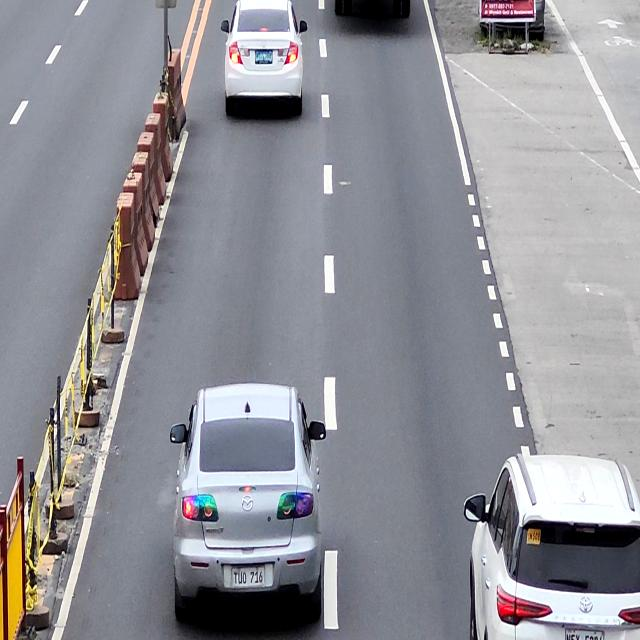Car: (170, 383, 324, 623), (463, 450, 640, 640), (220, 0, 310, 118)
License-Plate: (232, 567, 266, 589), (254, 50, 273, 64)
